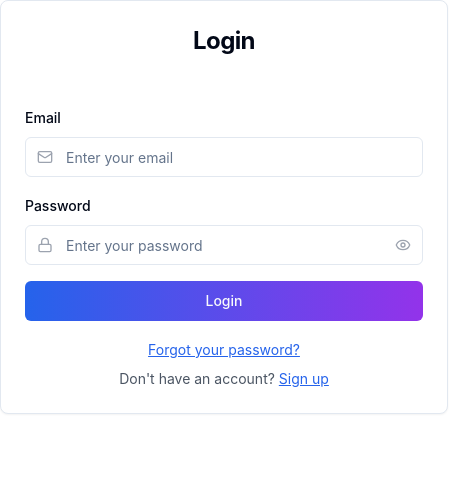
Test case: LoginForm › displays error message on login failure
The width and height of the screenshot is (465, 501).
Type "test@example.com" into the field labelled "Email".
click(224, 157); type("test@example.com")  # box [25,137,423,177]
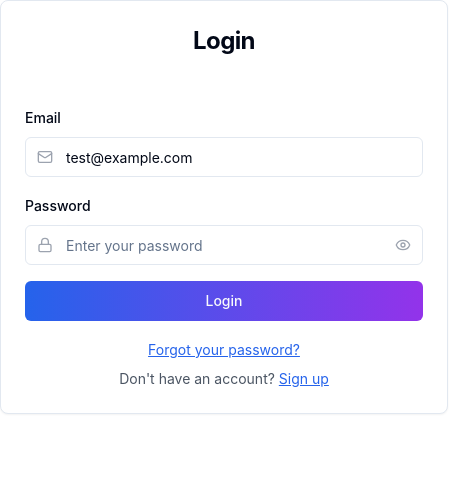
Type "wrongpassword" into the password field labelled "Password".
click(224, 245); type("wrongpassword")  # box [25,225,423,265]
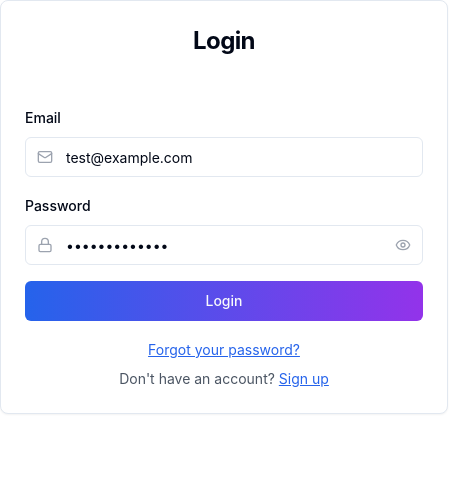
Click the button "Login".
click(224, 301)  # box [25,281,423,321]
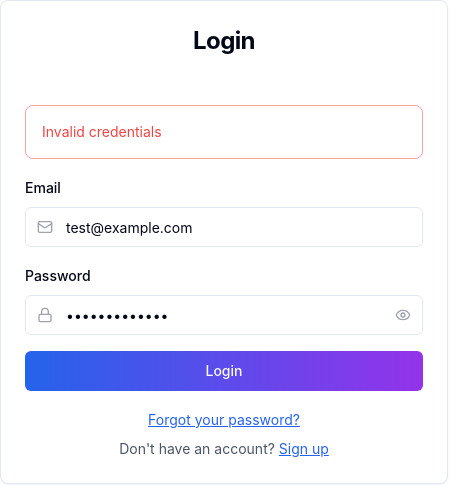
Now the text "Invalid credentials" is shown, box [42,123,162,140]
